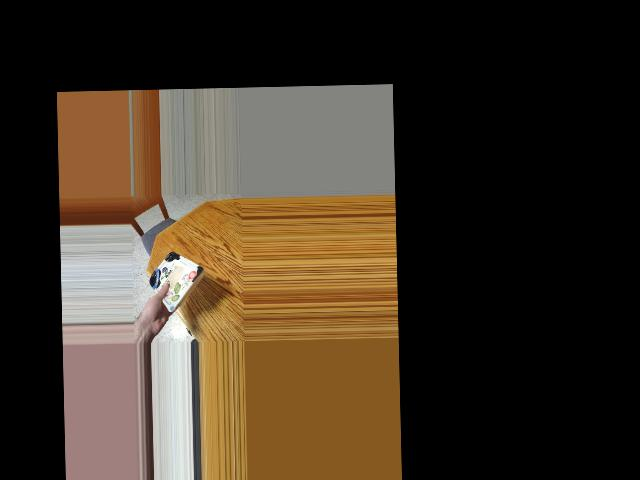cheese: (154, 250, 200, 304)
